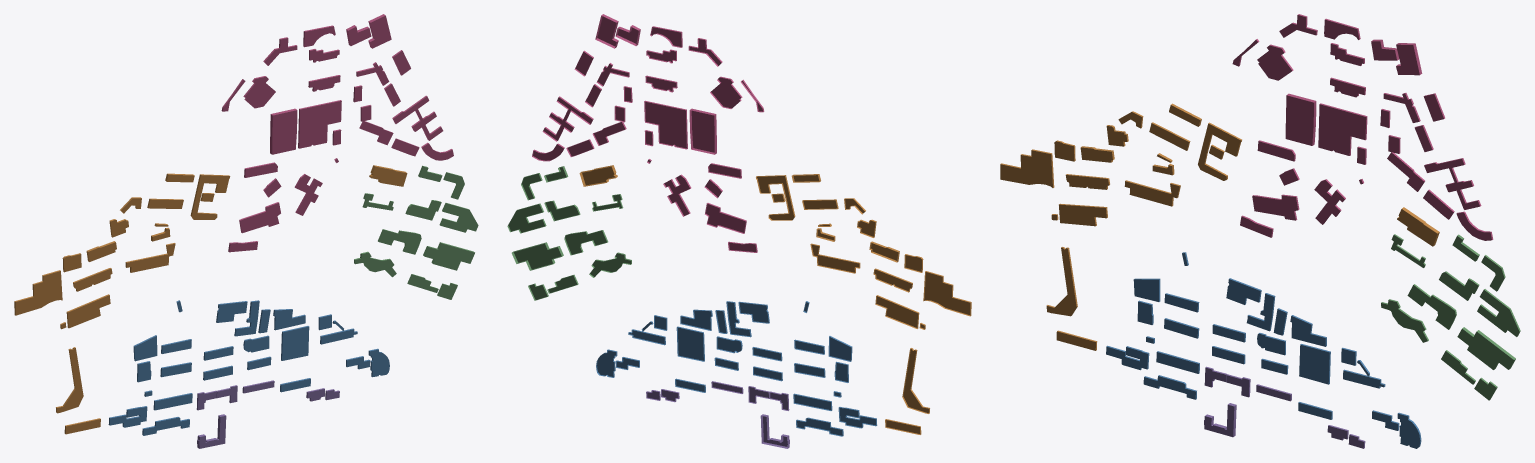
Rendered from buildings_k32.obj.
The picture shows the model from 3 angles, left to right: view 1: azimuth 30°, elevation 25°; view 2: azimuth 150°, elevation 25°; view 3: azimuth 330°, elevation 25°; orthographic projection. The views are drawn at different scales.
Visible parts, largest first — view 1: roof1, roof4, roof2, roof3, zone1, zone4, zone2, roof5, zone3; view 2: roof1, roof4, roof2, zone1, roof3, zone4, zone2, zone3, roof5, zone5; view 3: roof1, roof4, roof2, roof3, zone1, zone4, zone2, roof5, zone3, zone5.
Part boxes in pixels (left/top/right/bottom): roof1: left=222, top=15, right=453, bottom=252; roof4: left=110, top=301, right=389, bottom=435; roof2: left=15, top=166, right=407, bottom=434; roof3: left=355, top=167, right=478, bottom=299; zone1: left=221, top=14, right=452, bottom=251; zone4: left=108, top=300, right=382, bottom=435; zone2: left=14, top=165, right=406, bottom=433; roof5: left=198, top=381, right=339, bottom=448; zone3: left=354, top=165, right=474, bottom=295; roof1: left=533, top=16, right=762, bottom=251; roof4: left=597, top=302, right=875, bottom=435; roof2: left=582, top=166, right=970, bottom=433; zone1: left=532, top=14, right=764, bottom=252; roof3: left=508, top=167, right=630, bottom=299; zone4: left=596, top=301, right=877, bottom=436; zone2: left=579, top=165, right=971, bottom=434; zone3: left=507, top=166, right=631, bottom=300; roof5: left=647, top=382, right=787, bottom=446; zone5: left=646, top=381, right=789, bottom=448; roof1: left=1232, top=15, right=1491, bottom=240; roof4: left=1106, top=253, right=1420, bottom=448; roof2: left=1000, top=105, right=1437, bottom=350; roof3: left=1381, top=235, right=1519, bottom=400; zone1: left=1239, top=14, right=1493, bottom=239; zone4: left=1106, top=252, right=1421, bottom=446; zone2: left=1000, top=103, right=1439, bottom=350; roof5: left=1204, top=367, right=1363, bottom=448; zone3: left=1381, top=234, right=1520, bottom=400; zone5: left=1204, top=366, right=1365, bottom=448.
Bounding box in the file's own units: 1083 × 875 × 8.5.
